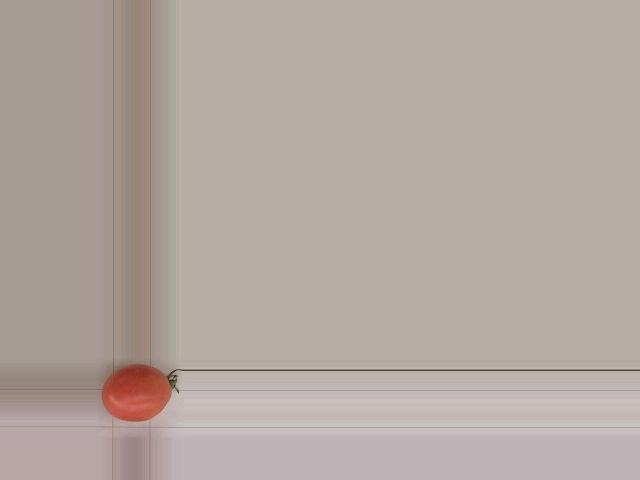tomato: (101, 364, 172, 421)
